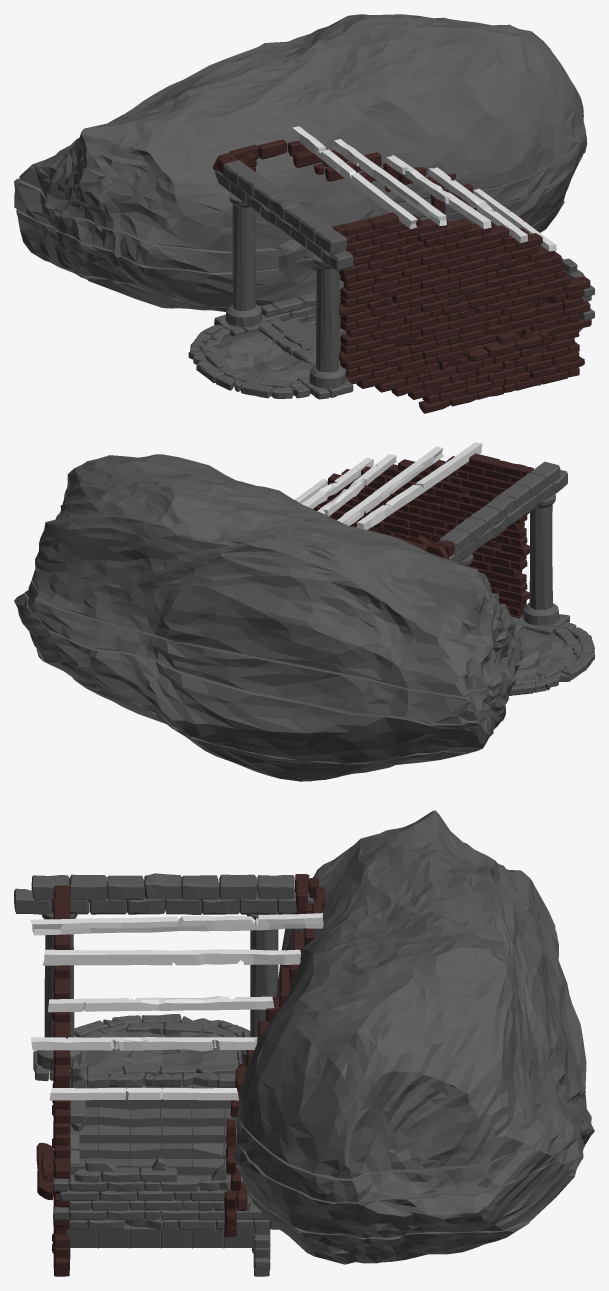
File: porta_cerchio.fbx
3 views of the same model, one above another, from view 1: azimuth 30°, elevation 25°; view 2: azimuth 150°, elevation 25°; view 3: azimuth 270°, elevation 25° (orthographic). The views are drawn at different scales.
Parts seen in each view (by area): view 1: left_rock, muri, ingresso, fondo, travi; view 2: left_rock, muri, ingresso, travi, fondo; view 3: left_rock, fondo, muri, travi, ingresso.
Part boxes in pixels (left/top/right/bottom): left_rock: left=14, top=14, right=587, bottom=311; muri: left=212, top=139, right=594, bottom=413; ingresso: left=215, top=160, right=353, bottom=388; fondo: left=188, top=314, right=582, bottom=399; travi: left=292, top=126, right=556, bottom=251; left_rock: left=14, top=454, right=523, bottom=781; muri: left=313, top=453, right=533, bottom=618; ingresso: left=439, top=461, right=567, bottom=625; travi: left=294, top=442, right=482, bottom=529; fondo: left=492, top=593, right=594, bottom=695; left_rock: left=234, top=810, right=594, bottom=1264; fondo: left=33, top=1014, right=255, bottom=1248; muri: left=36, top=874, right=325, bottom=1276; travi: left=30, top=913, right=323, bottom=1100; ingresso: left=14, top=873, right=314, bottom=1070.
Bounding box in the file's own units: 1279 × 616 × 1057.
